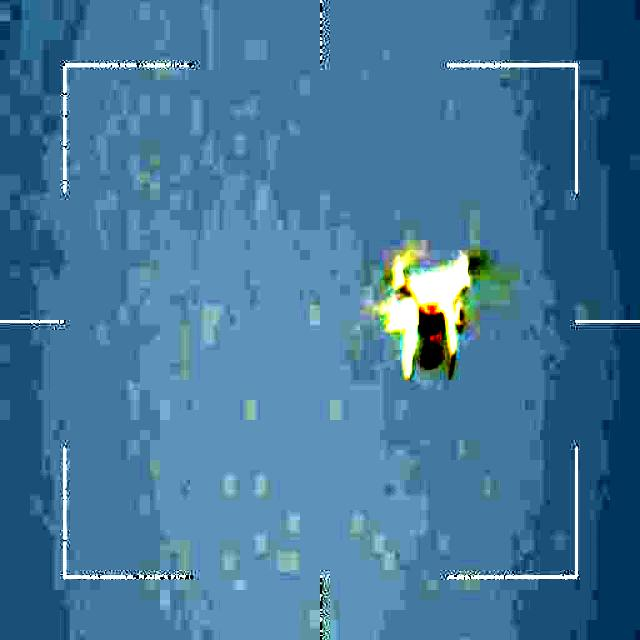bird: (364, 260, 480, 388)
